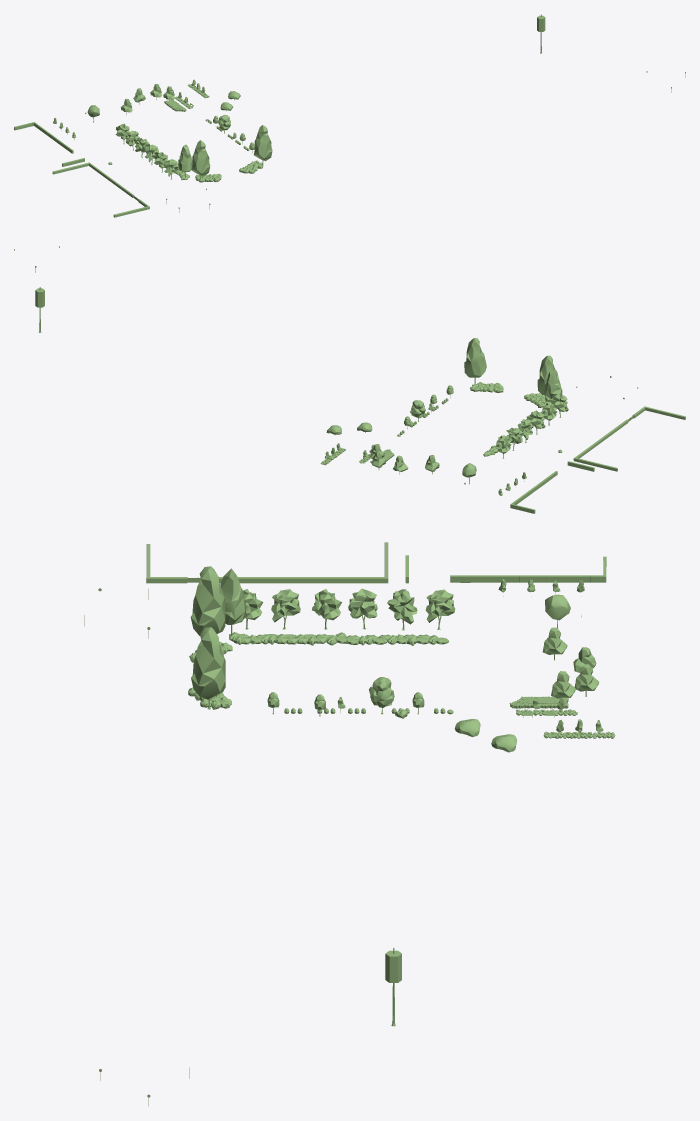
File: school_plants.glb
The picture shows the model from 3 angles, top to bottom: view 1: azimuth 30°, elevation 25°; view 2: azimuth 150°, elevation 25°; view 3: azimuth 270°, elevation 25°; orthographic projection. The views are drawn at different scales.
Parts seen in each view (by area): view 1: school_plants; view 2: school_plants; view 3: school_plants.
Boxes of the visible parts, bbox=[...] form: school_plants: bbox=[14, 14, 685, 217]; school_plants: bbox=[14, 246, 685, 513]; school_plants: bbox=[84, 542, 615, 1106].
Bounding box in the file's own units: 192 × 13.15 × 77.1.
